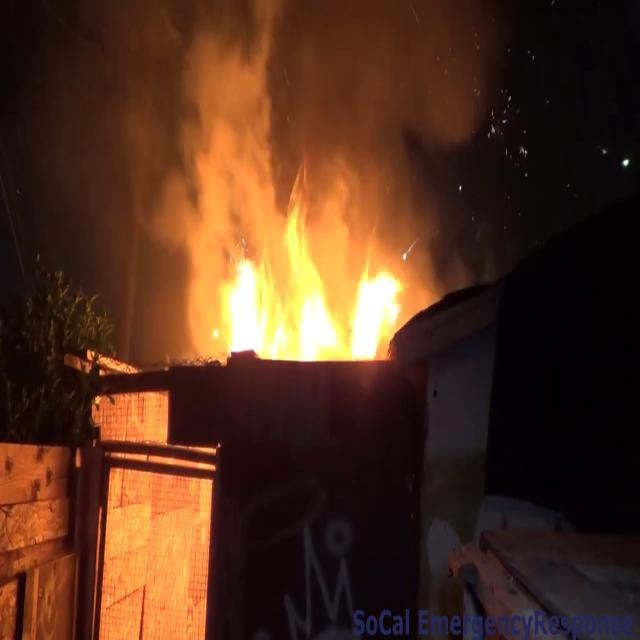Fire: (202, 208, 410, 369)
Smoke: (113, 0, 416, 268)
